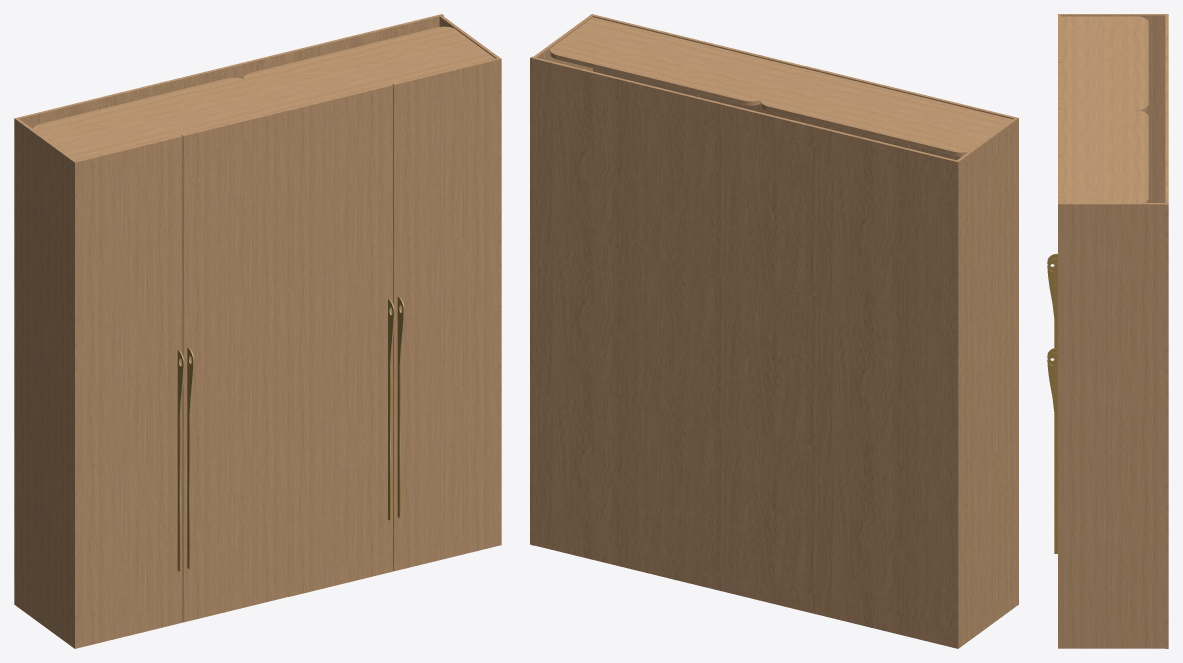
Rendered from armarioQuarto.glb.
The picture shows the model from 3 angles, left to right: view 1: azimuth 30°, elevation 25°; view 2: azimuth 150°, elevation 25°; view 3: azimuth 270°, elevation 25°; orthographic projection. The views are drawn at different scales.
Visible parts, largest first — view 1: 3DGeom-1 (×7), 3DGeom-8 (×2), 3DGeom-9 (×4); view 2: 3DGeom-1 (×6), 3DGeom-8 (×2); view 3: 3DGeom-1 (×3), 3DGeom-8 (×2), 3DGeom-9 (×2).
Boxes of the visible parts, <box> form: 3DGeom-1 (×7): <box>14,14,501,648</box>; 3DGeom-8 (×2): <box>33,26,494,160</box>; 3DGeom-9 (×4): <box>177,296,404,571</box>; 3DGeom-1 (×6): <box>530,14,1018,648</box>; 3DGeom-8 (×2): <box>550,17,1012,156</box>; 3DGeom-1 (×3): <box>1058,14,1168,648</box>; 3DGeom-8 (×2): <box>1061,16,1148,202</box>; 3DGeom-9 (×2): <box>1047,258,1057,553</box>.
Bounding box in the file's own units: 2.16 × 2.35 × 0.5805.
2 materials, 2 textured.
